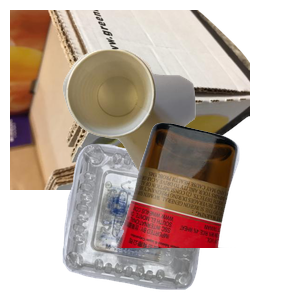cardboard: (10, 10, 250, 190)
glass: (113, 120, 300, 300)
plastic: (60, 141, 263, 300)
trash: (60, 47, 300, 227)
